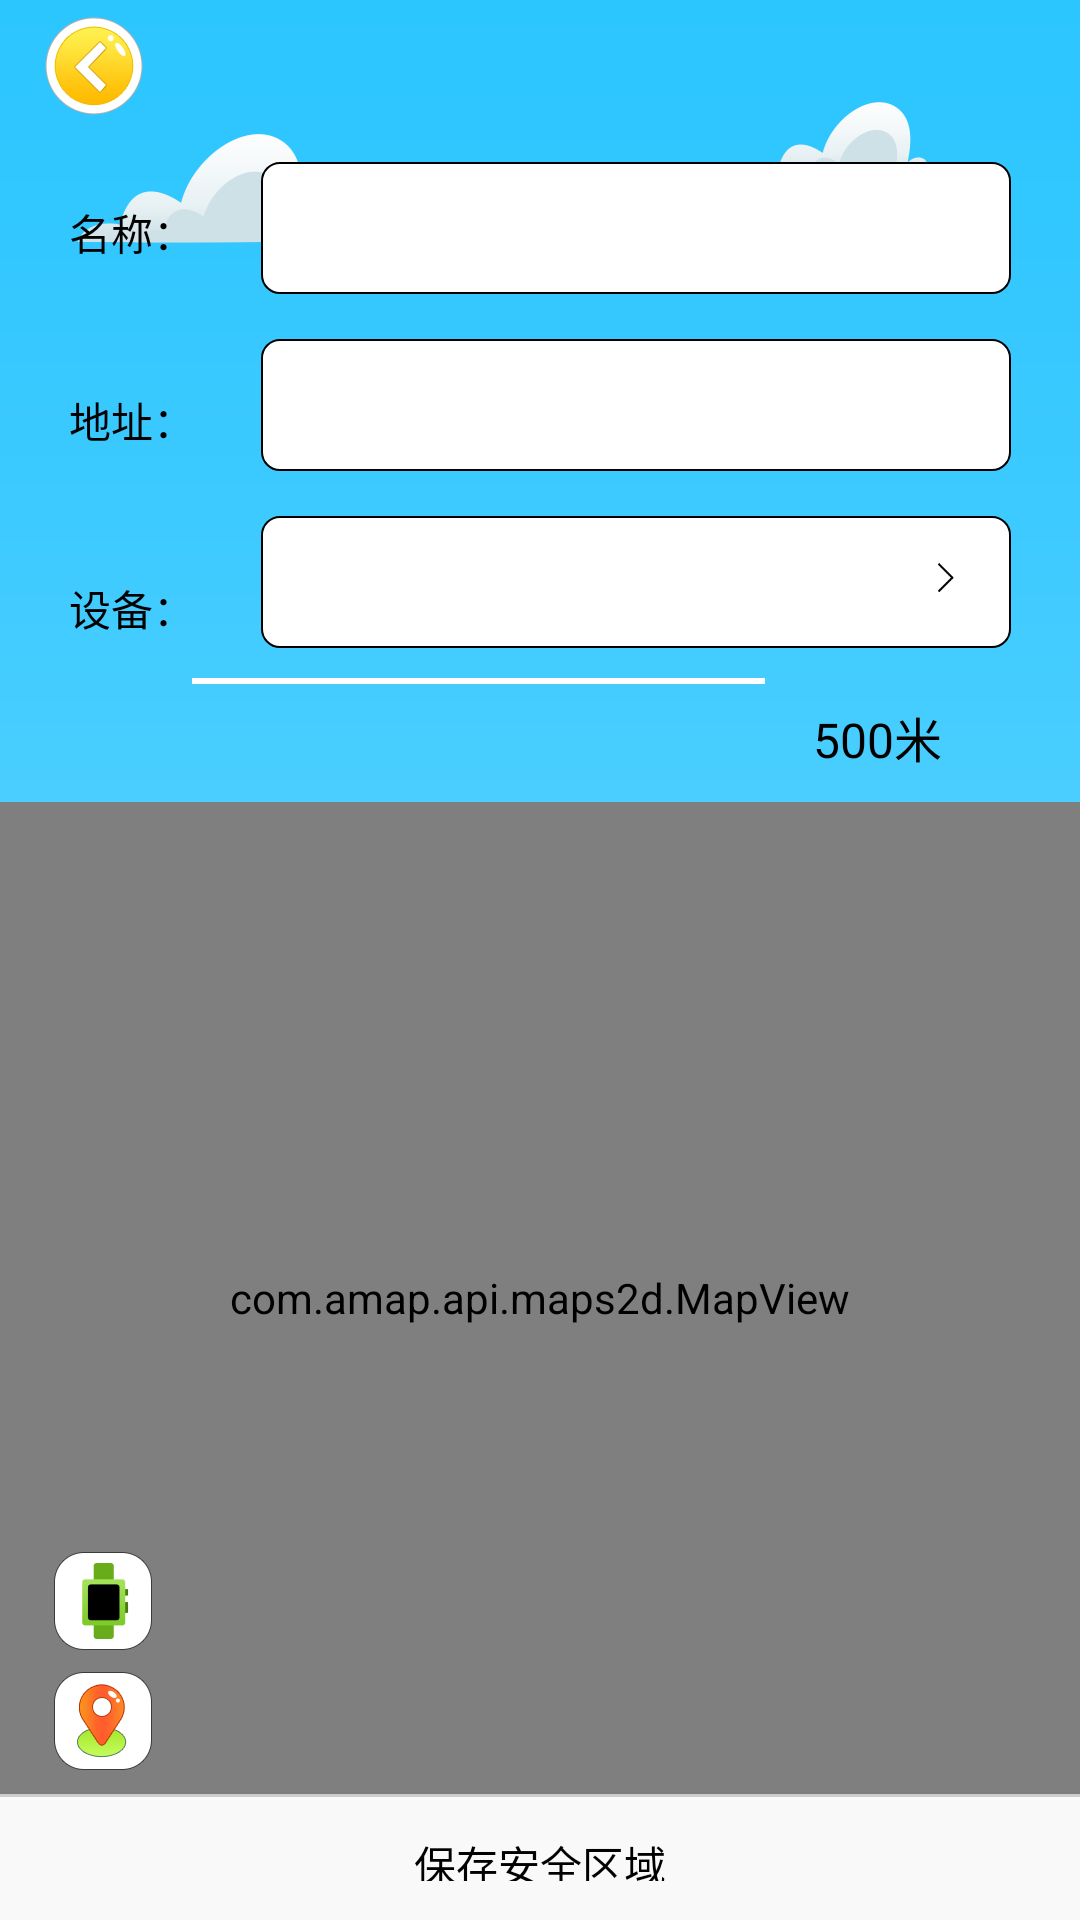

Icon bounding boxes for this 1080px x 1920px phone screenshot, format BBox(x1, y1, x2, y2):
back: BBox(45, 17, 143, 115)
location device: BBox(54, 1552, 152, 1650)
location self: BBox(54, 1672, 152, 1770)
right: BBox(938, 563, 954, 592)
